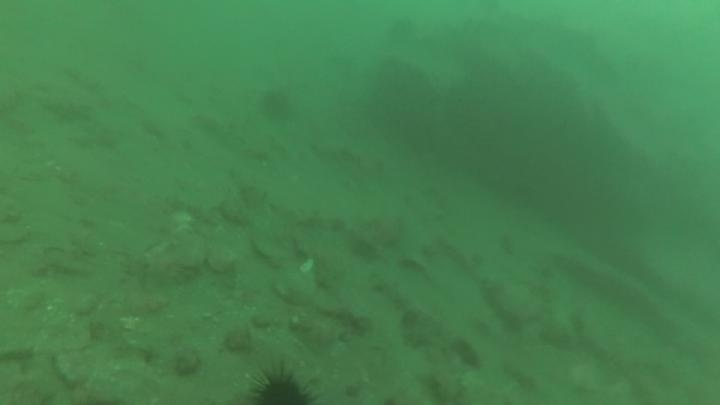echinus: (245, 363, 321, 405), (257, 86, 296, 126), (383, 14, 421, 49)
